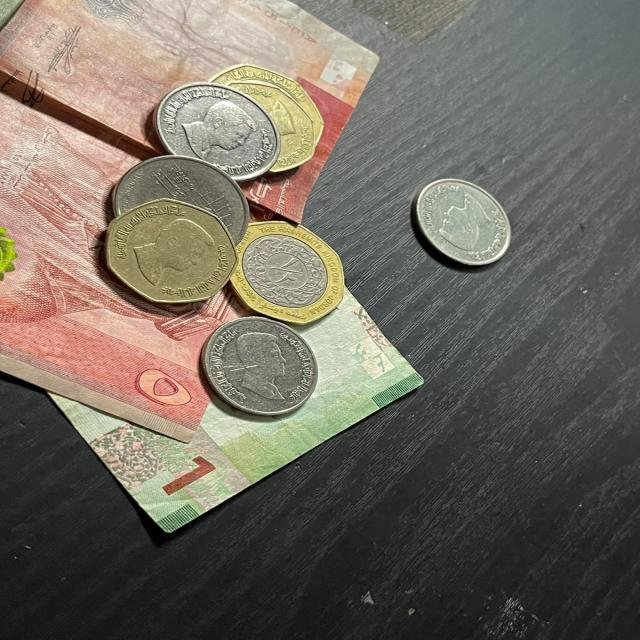1-dinar: (46, 285, 424, 533)
10-coins: (154, 84, 281, 179), (202, 315, 318, 416), (412, 178, 511, 270), (107, 155, 250, 218)
25-coins: (105, 197, 238, 303), (219, 81, 315, 172)
5-dinar: (0, 1, 385, 444)
50-coins: (239, 219, 343, 325), (207, 65, 326, 145)
